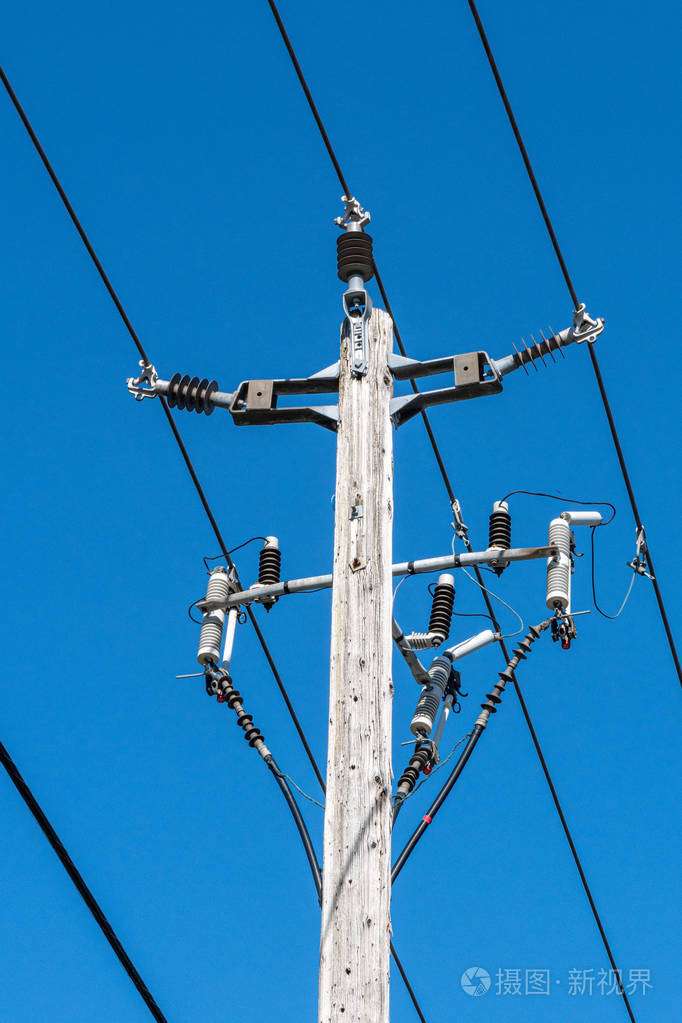insulator: (508, 328, 568, 379), (160, 370, 213, 416), (334, 234, 375, 279)
